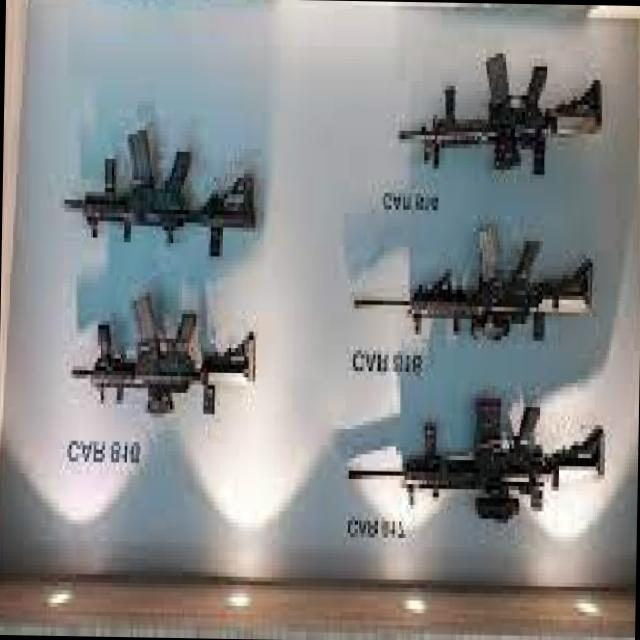Gun: (54, 118, 270, 288), (66, 285, 266, 438)
